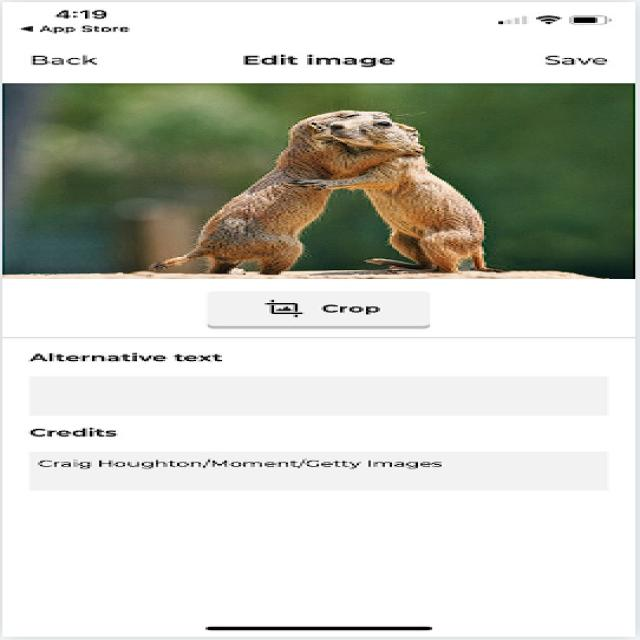button: (190, 286, 443, 332)
image: (0, 77, 640, 282)
input: (0, 418, 633, 501), (0, 344, 628, 418)
text: (234, 48, 415, 70)
